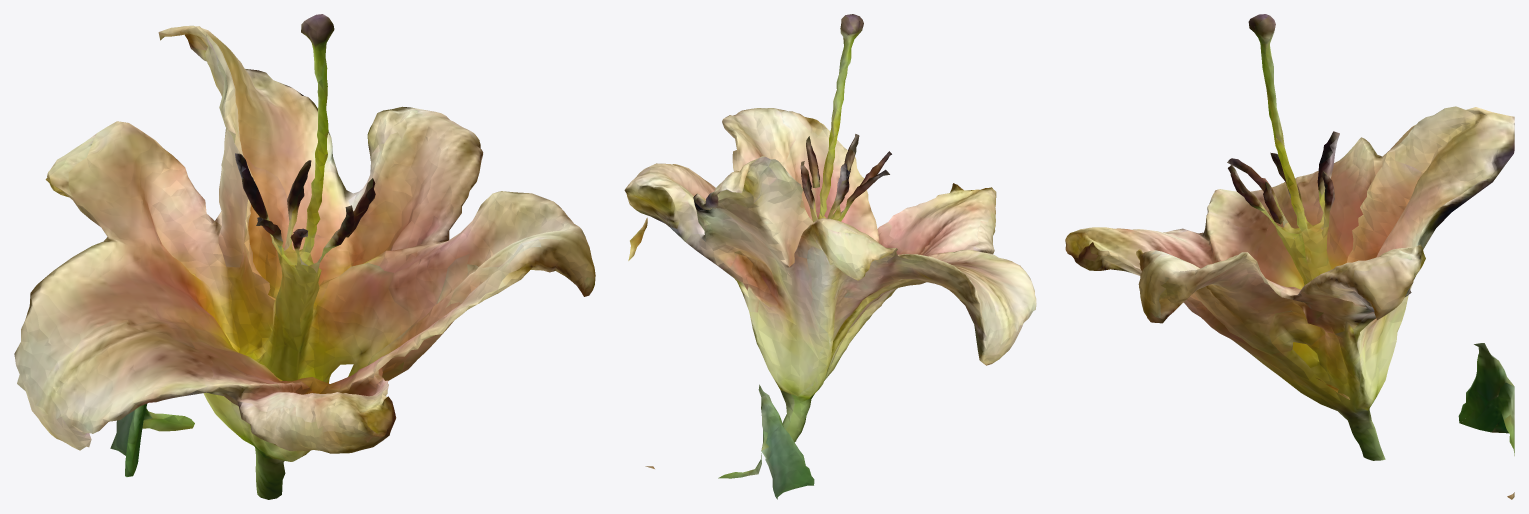
Rendered from lily.glb.
3 renders of one model, left to right at view 1: azimuth 30°, elevation 25°; view 2: azimuth 150°, elevation 25°; view 3: azimuth 270°, elevation 25°, orthographic. The views are drawn at different scales.
Parts seen in each view (by area): view 1: Object_4; view 2: Object_4; view 3: Object_4.
Boxes of the visible parts, bbox=[...] form: Object_4: bbox=[14, 14, 595, 499]; Object_4: bbox=[624, 14, 1036, 499]; Object_4: bbox=[1065, 14, 1514, 499].
Bounding box in the file's own units: 0.1341 × 0.139 × 0.1305.
1 material, 1 textured.
